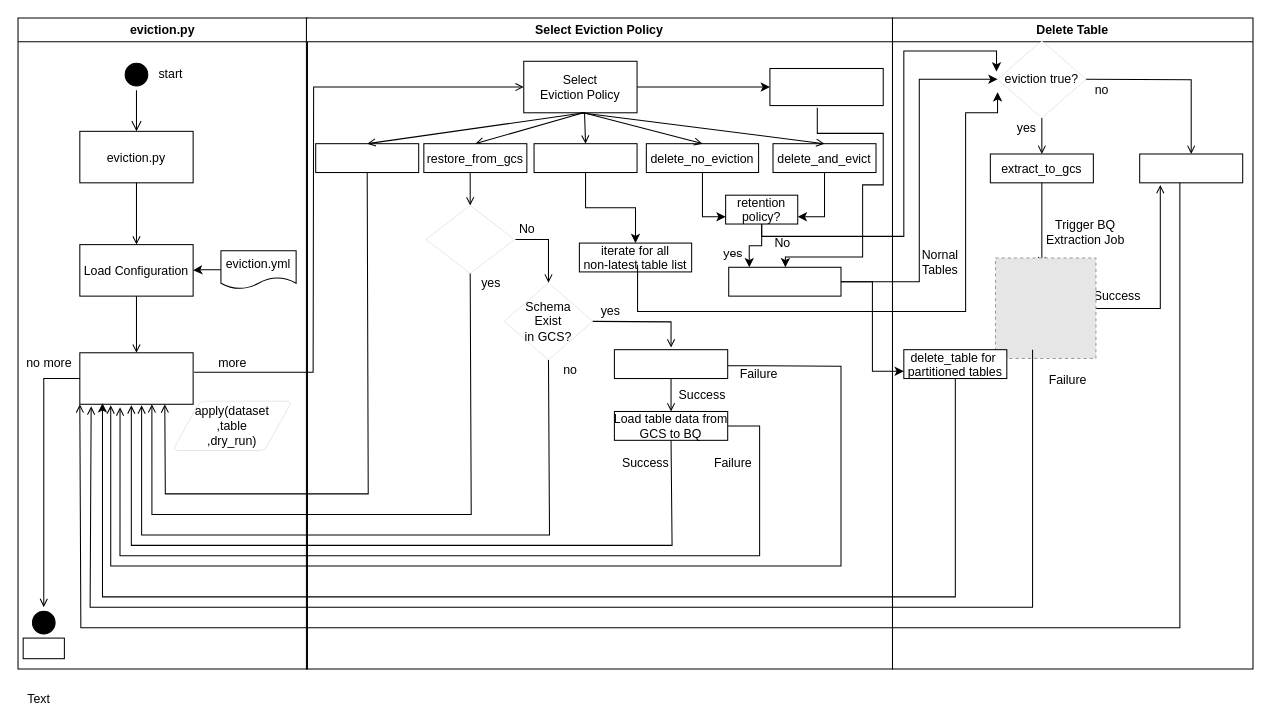
The diagram is 1271 pixels wide and 728 high, and some of its shapes have lost their labels. Grey dashed boxes stand in for pictures. The shapes that lost their labels are listed below. From the top down, each one's centre as x and y in pixels, then its label:
At point (826, 86): "partitioned_ delete_no_eviction".
At point (367, 158): "keep_everything".
At point (585, 158): "keep_latest_only".
At point (1191, 168): "delete_table".
At point (469, 239): "Table Exist in BQ?".
At point (784, 281): "Get List of tables".
At point (136, 378): "Apply Policy for each table in eviction.yml".
At point (670, 364): "Create Table using Schema in BQ".
At point (43, 648): "end".
